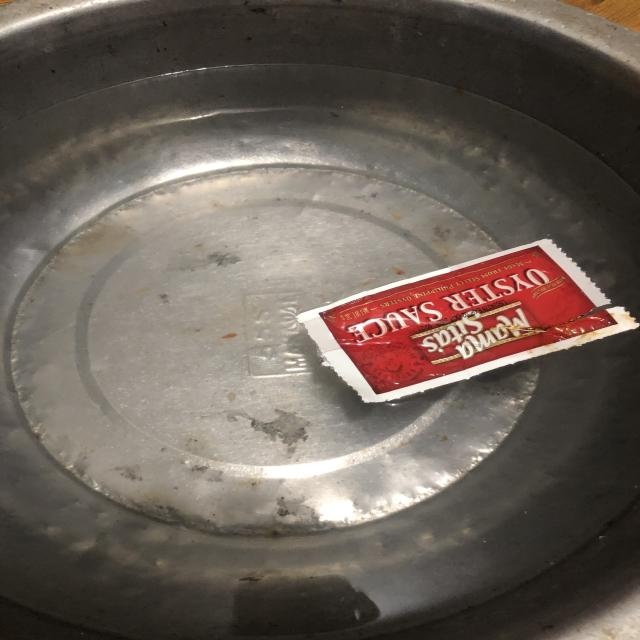Plastic Wrapper: (275, 227, 640, 416)
